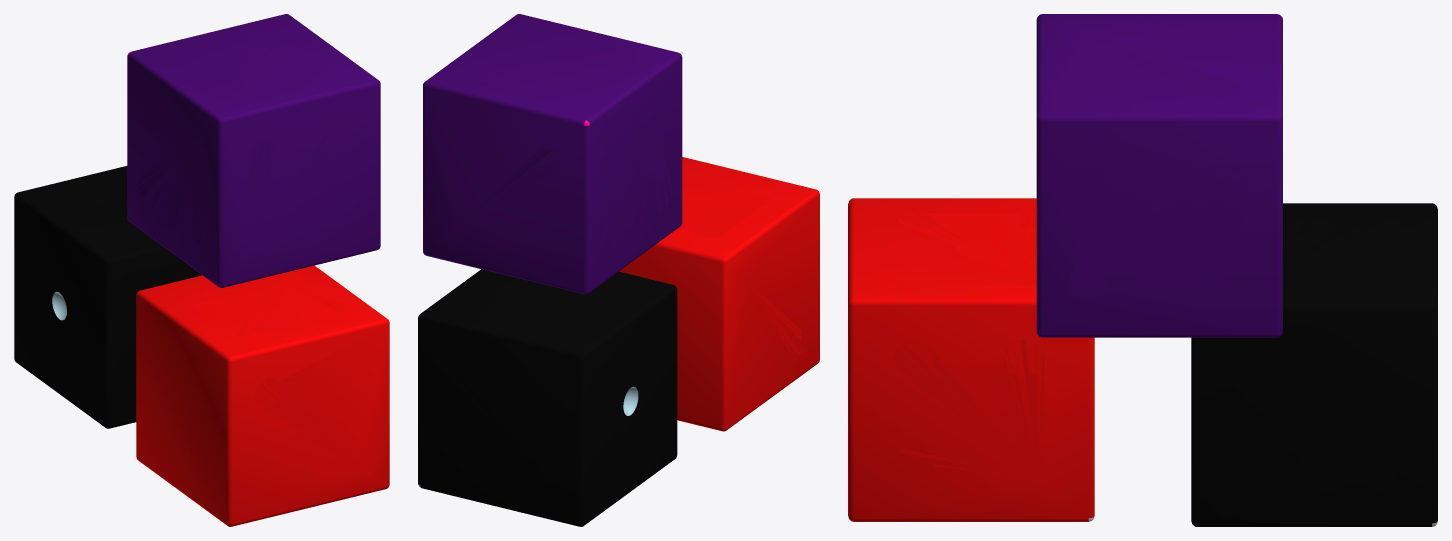
The picture shows the model from 3 angles, left to right: view 1: azimuth 30°, elevation 25°; view 2: azimuth 150°, elevation 25°; view 3: azimuth 270°, elevation 25°; orthographic projection. The views are drawn at different scales.
Parts seen in each view (by area): view 1: BoîteChanfrein003, BoîteChanfrein002, BoîteChanfrein001; view 2: BoîteChanfrein003, BoîteChanfrein001, BoîteChanfrein002; view 3: BoîteChanfrein003, BoîteChanfrein002, BoîteChanfrein001.
Part boxes in pixels (x1,y1,x2,y2): BoîteChanfrein003: (127, 14, 380, 287); BoîteChanfrein002: (136, 265, 389, 526); BoîteChanfrein001: (14, 166, 201, 428); BoîteChanfrein003: (423, 14, 682, 294); BoîteChanfrein001: (418, 269, 677, 526); BoîteChanfrein002: (619, 157, 819, 431); BoîteChanfrein003: (1036, 14, 1282, 337); BoîteChanfrein002: (848, 198, 1094, 521); BoîteChanfrein001: (1191, 203, 1437, 526).
Bounding box in the file's own units: 15.98 × 23.11 × 27.58.
